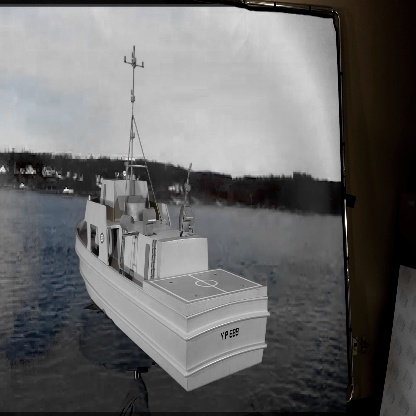YP689: (74, 49, 270, 393)
